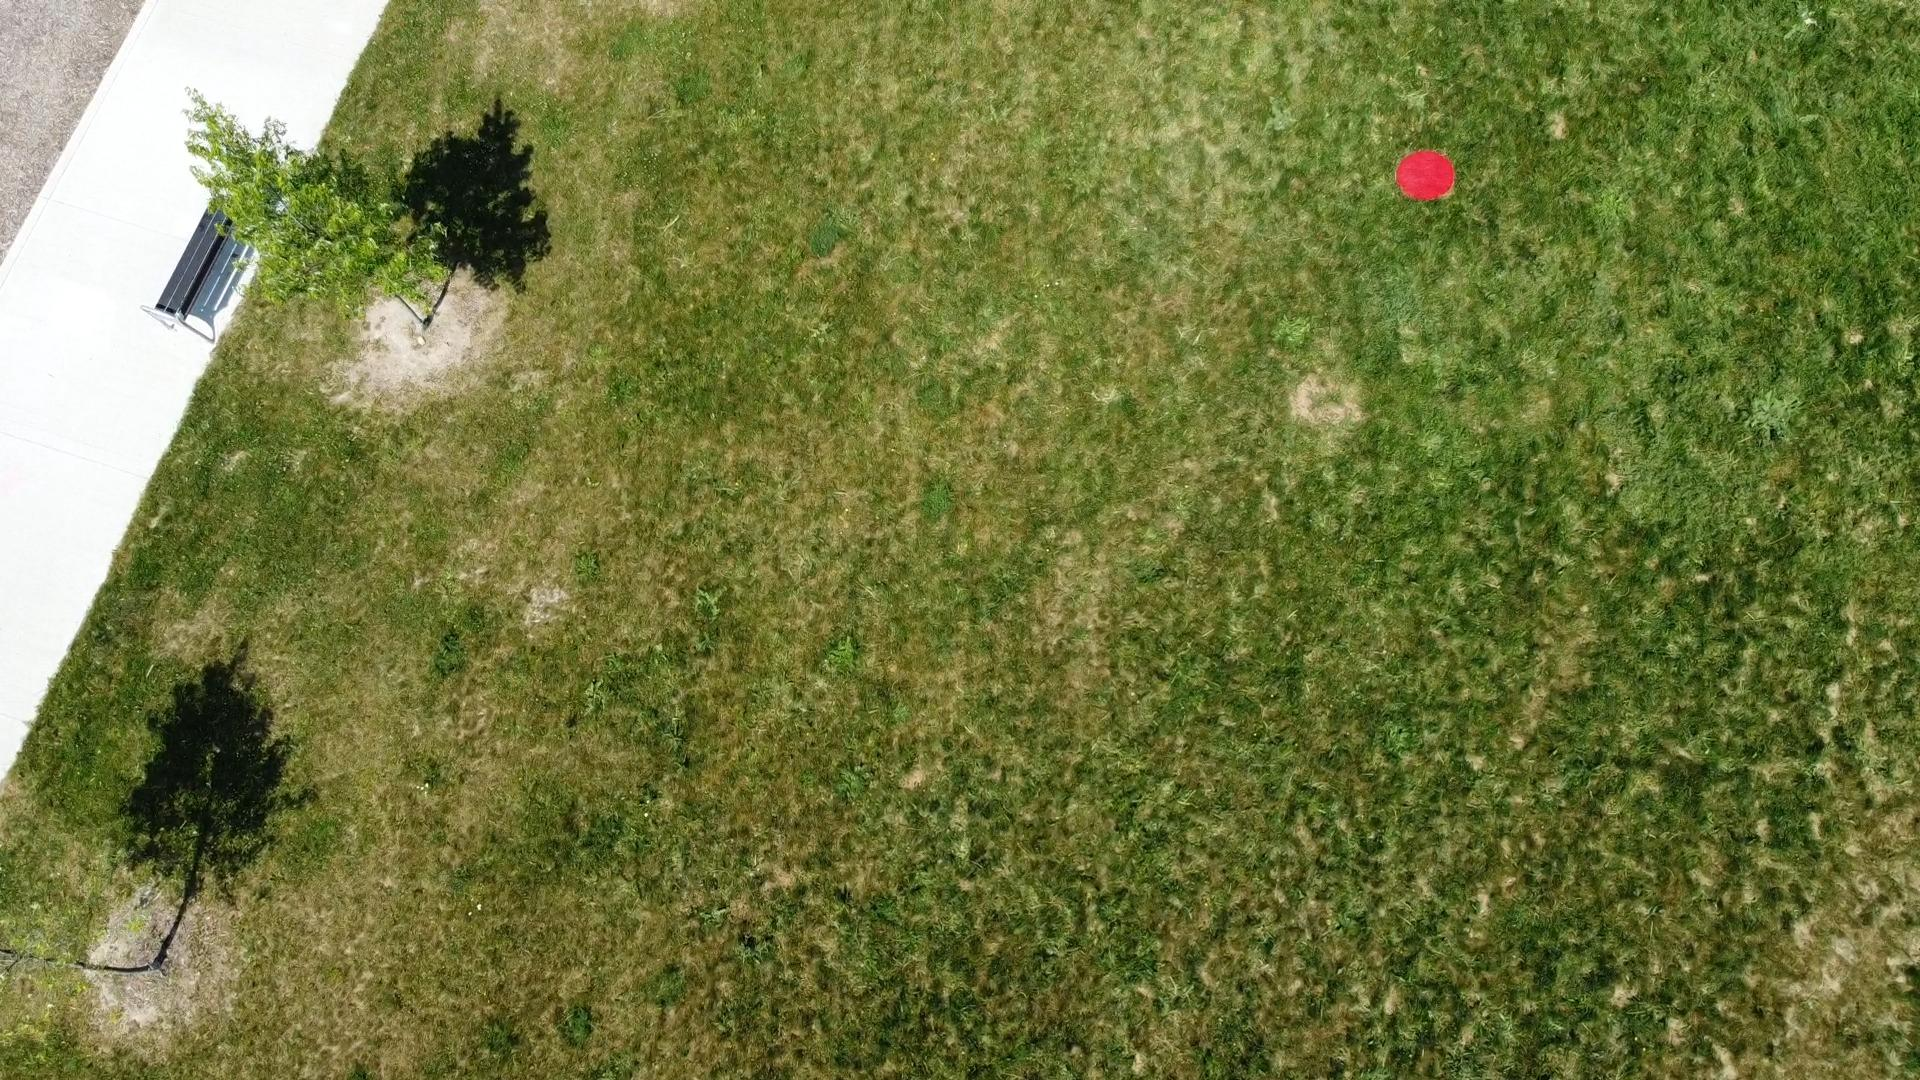Red: (1393, 148, 1458, 204)
